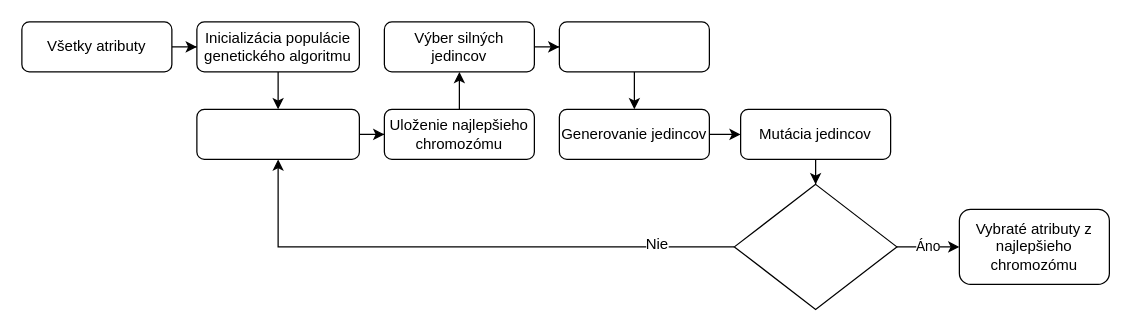
This 1131x331 diagram has some shape labels left out. Here are the shapes that lost their labels. From the top down, the centre of each, then its label:
At (x=633, y=46): "Kríženie jedincov".
At (x=277, y=133): "Ohodnotenie pomocou fit funkcie".
At (x=815, y=246): "Konvergencia GA alebo presiahnutie počet generácií".
